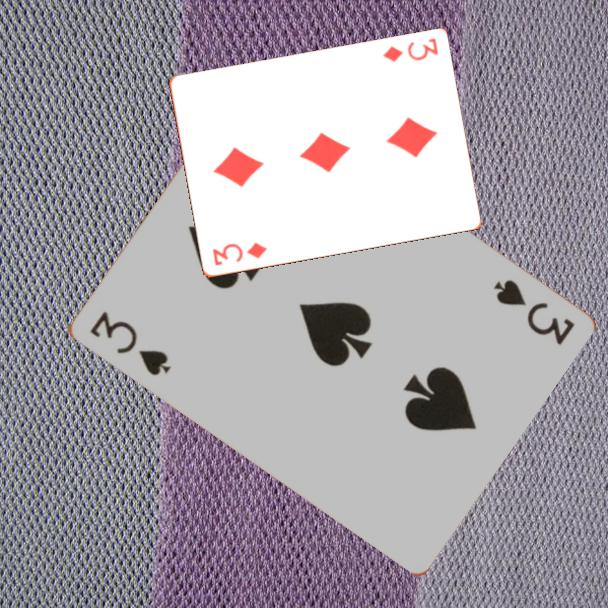d03: (208, 239, 270, 269), (379, 35, 441, 65)
s03: (490, 276, 577, 349), (85, 308, 174, 379)
